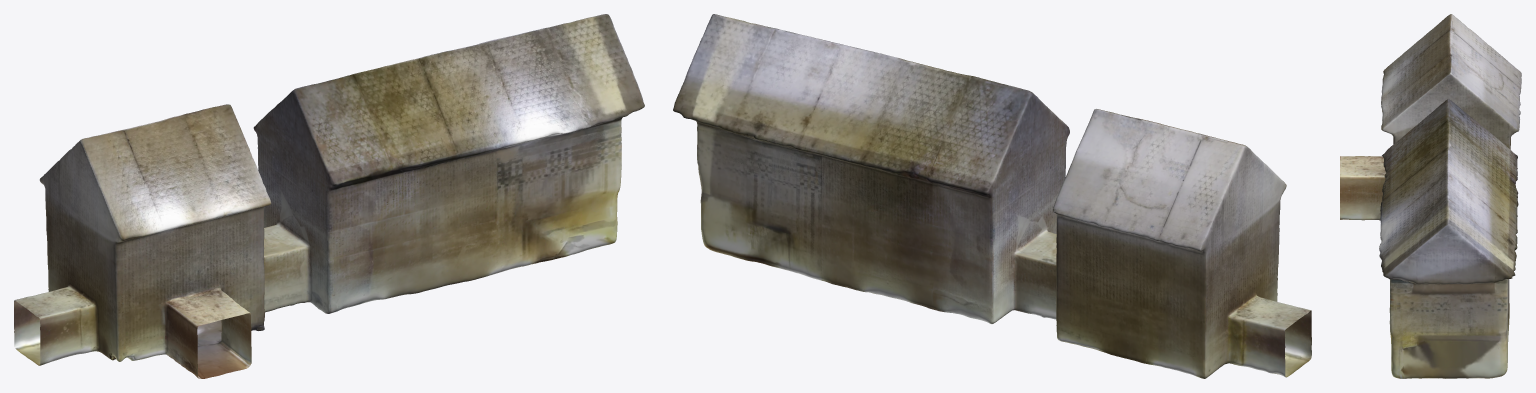
3 renders of one model, left to right at view 1: azimuth 30°, elevation 25°; view 2: azimuth 150°, elevation 25°; view 3: azimuth 270°, elevation 25°, orthographic. The views are drawn at different scales.
Parts seen in each view (by area): view 1: EGY_001_M10_UnasPyramid_LP; view 2: EGY_001_M10_UnasPyramid_LP; view 3: EGY_001_M10_UnasPyramid_LP.
Boxes of the visible parts, x1=… form: EGY_001_M10_UnasPyramid_LP: x1=14, y1=14, x2=644, y2=378; EGY_001_M10_UnasPyramid_LP: x1=673, y1=14, x2=1311, y2=378; EGY_001_M10_UnasPyramid_LP: x1=1340, y1=14, x2=1521, y2=378.
Bounding box in the file's own units: 11.25 × 3.86 × 3.72.
1 material, 1 textured.
